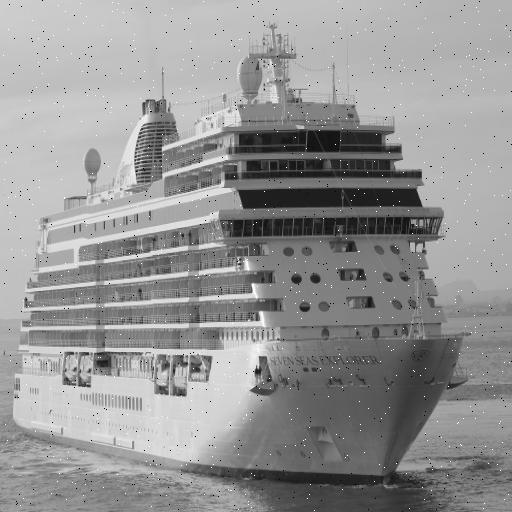cruises: (11, 19, 469, 498)
